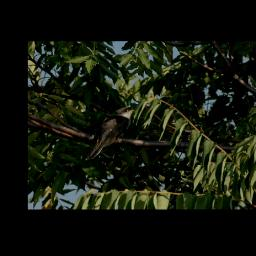Cuckoo: (81, 106, 138, 162)
